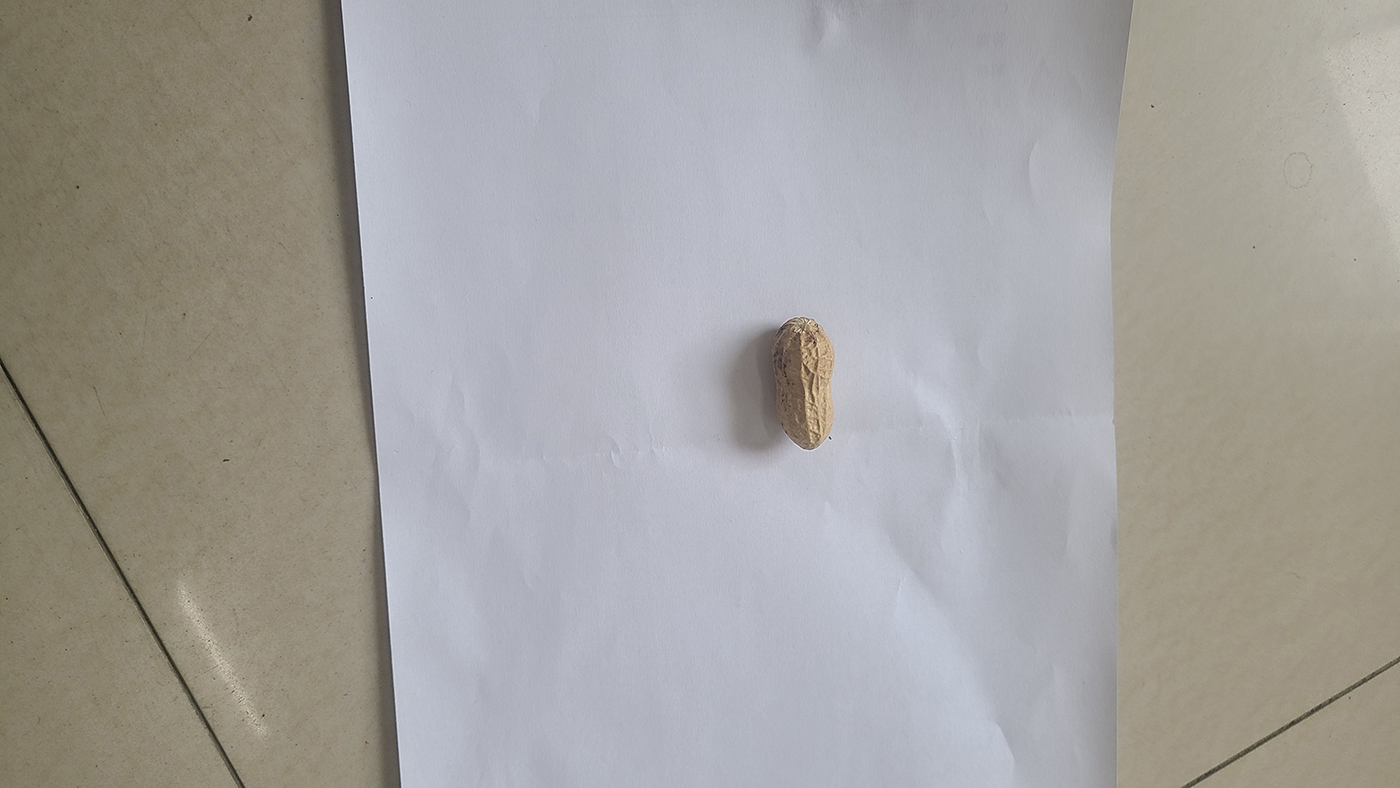h: (770, 316, 837, 452)
